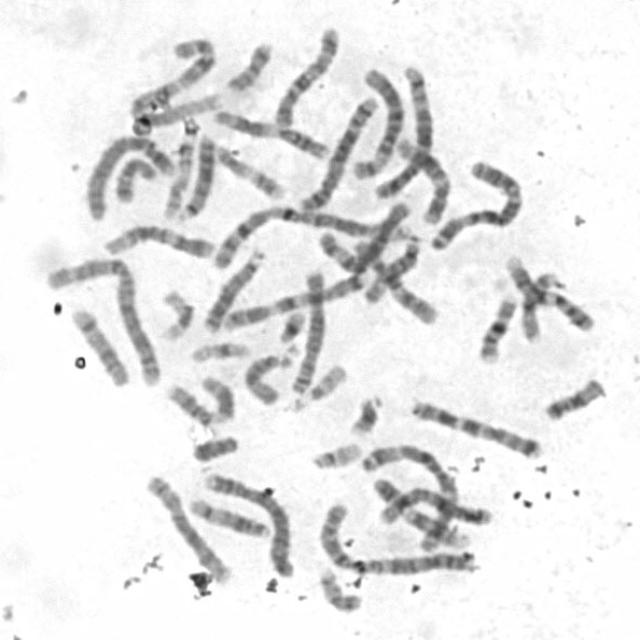A1: (210, 199, 418, 269), (127, 31, 220, 136)
A2: (41, 252, 165, 388), (314, 498, 482, 578)
A3: (359, 438, 462, 552), (424, 154, 524, 252)
B4: (198, 466, 298, 580), (80, 129, 178, 223)
B5: (296, 92, 382, 214), (370, 62, 435, 200)
C10: (344, 233, 440, 327), (269, 20, 344, 130)
C11: (209, 103, 333, 161), (160, 376, 227, 431)
C12: (391, 131, 454, 226), (97, 219, 218, 260)
C6: (312, 196, 414, 276), (348, 62, 407, 180)
C7: (213, 267, 371, 333), (405, 394, 546, 461)
C8: (141, 468, 235, 584), (288, 263, 328, 398)
C9: (369, 472, 474, 550), (500, 248, 597, 332)
D13: (198, 243, 270, 335), (173, 128, 219, 221)
D14: (66, 302, 132, 388), (183, 492, 273, 539)
D15: (358, 231, 426, 307), (240, 345, 293, 407)
E16: (516, 266, 563, 344), (473, 290, 519, 364)
E17: (208, 139, 288, 201), (158, 110, 200, 222)
E18: (538, 373, 608, 422), (110, 152, 158, 204)
F19: (155, 285, 197, 343), (186, 336, 254, 365)
F20: (221, 36, 276, 93), (314, 563, 363, 613)
G21: (345, 389, 386, 437), (274, 305, 309, 345)
G22: (301, 358, 349, 402), (306, 436, 364, 471)
Y: (186, 429, 242, 464)
